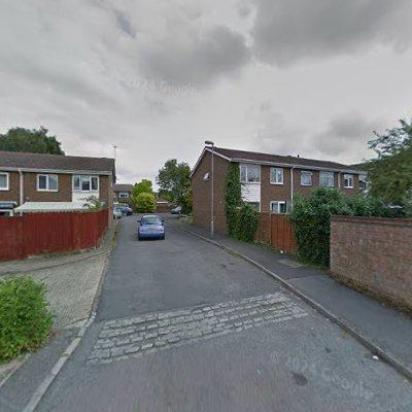moving-car: (136, 213, 166, 240)
stationary-car-offstreet: (115, 204, 133, 217)
stationary-car-onstreet: (172, 204, 184, 214)
